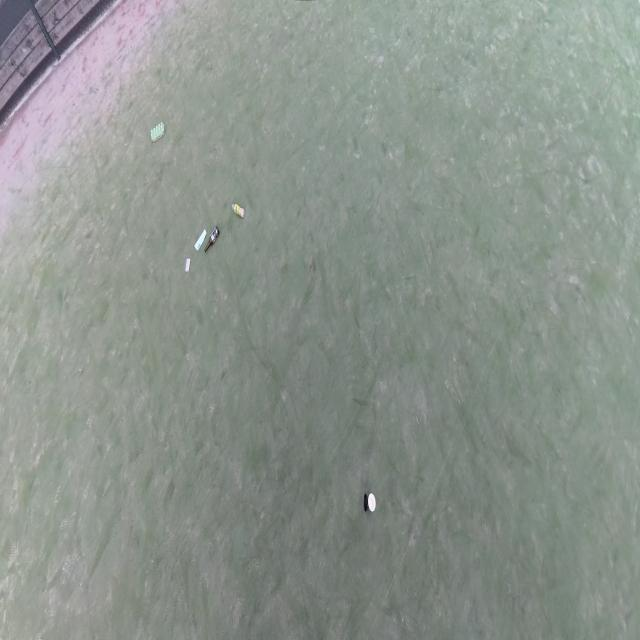rubbish: (204, 226, 220, 253), (150, 121, 165, 142), (193, 229, 207, 251), (231, 203, 245, 220), (364, 493, 375, 511), (185, 257, 191, 270)
